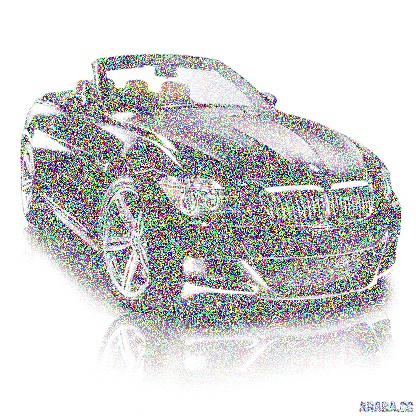Vehicle: (21, 53, 401, 320)
